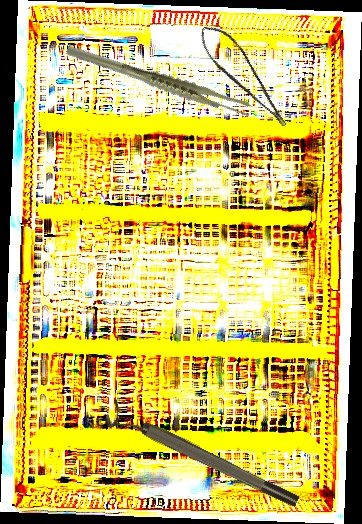Fixation Ring: (102, 398, 302, 519)
Micro Scissor: (193, 15, 291, 141)
Tissue Forceps: (64, 12, 255, 148)
